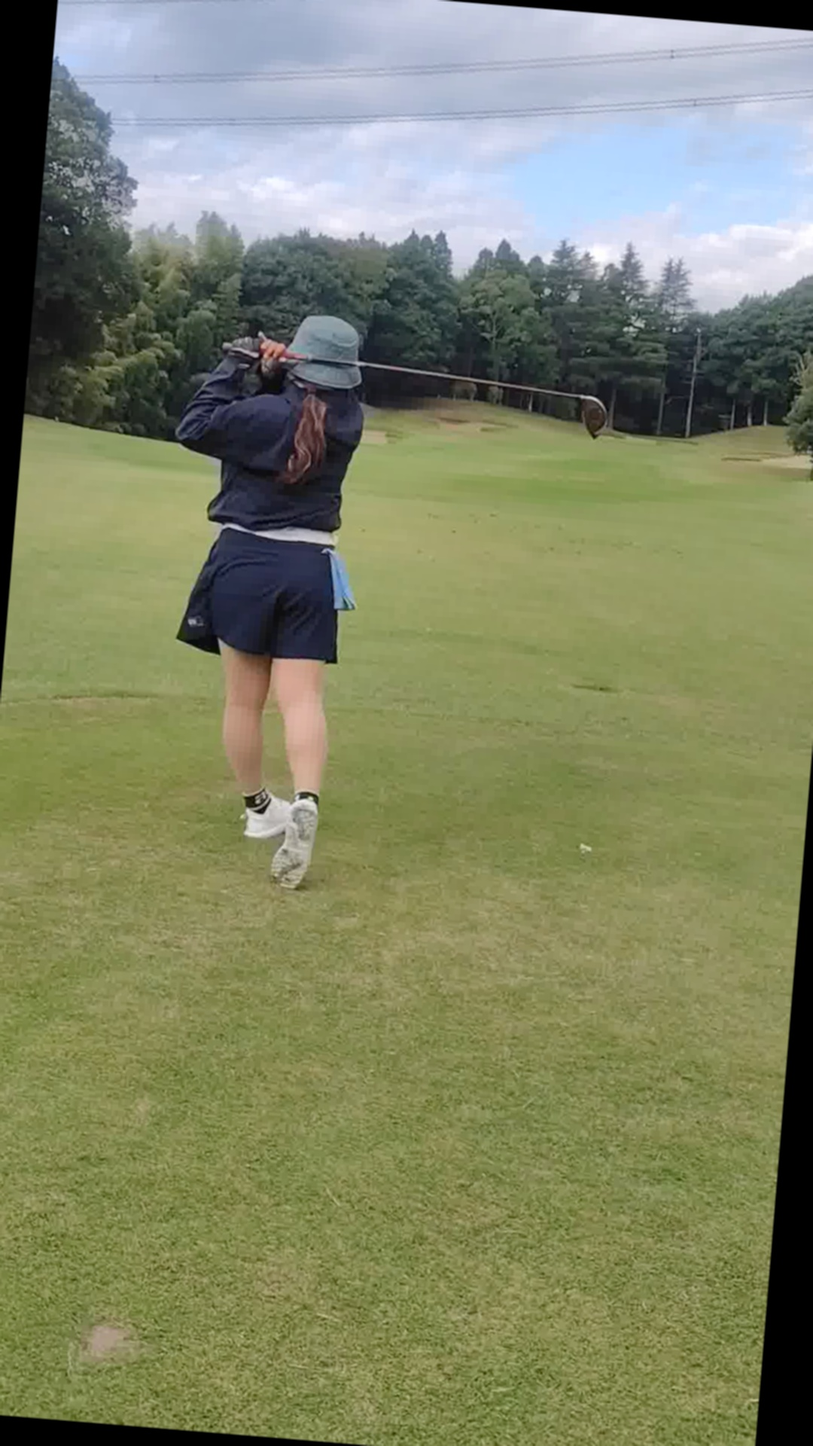clubhead: (511, 369, 684, 507)
